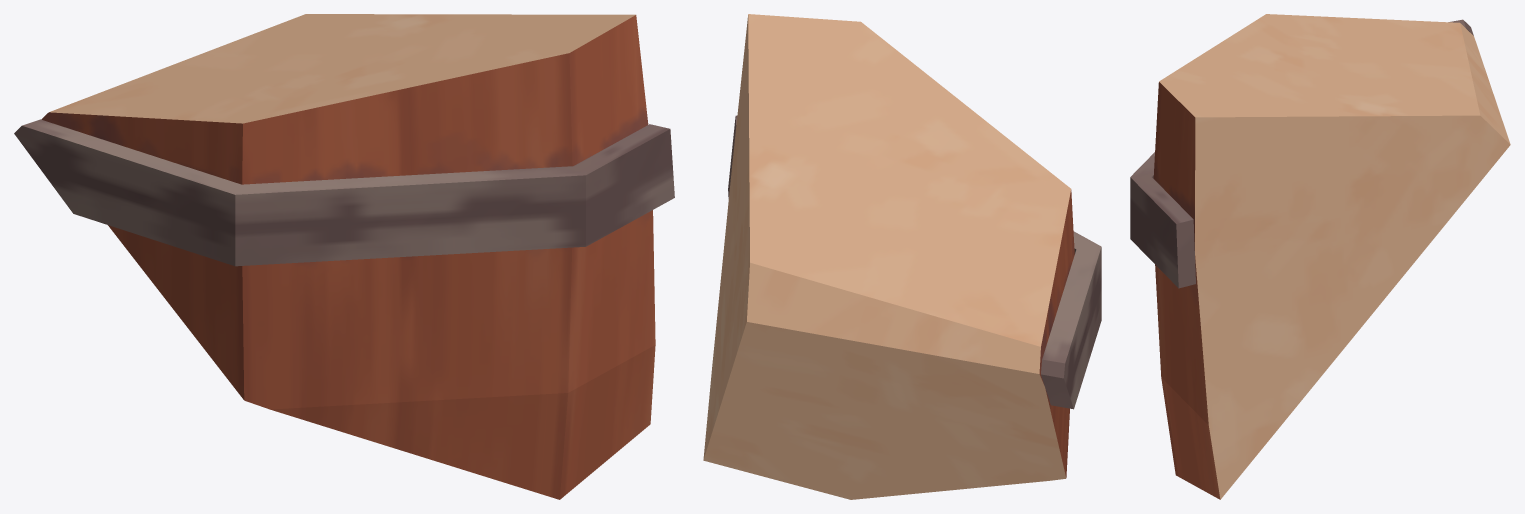
File: barrel_s00.fbx
The picture shows the model from 3 angles, left to right: view 1: azimuth 30°, elevation 25°; view 2: azimuth 150°, elevation 25°; view 3: azimuth 270°, elevation 25°; orthographic projection. The views are drawn at different scales.
Parts seen in each view (by area): view 1: barrel_s00; view 2: barrel_s00; view 3: barrel_s00.
Boxes of the visible parts, left/top/right/bottom form: barrel_s00: left=14, top=14, right=674, bottom=499; barrel_s00: left=703, top=14, right=1101, bottom=499; barrel_s00: left=1130, top=14, right=1510, bottom=499.
Size of the model in its own units: 1.59 by 1.4 by 1.22.
